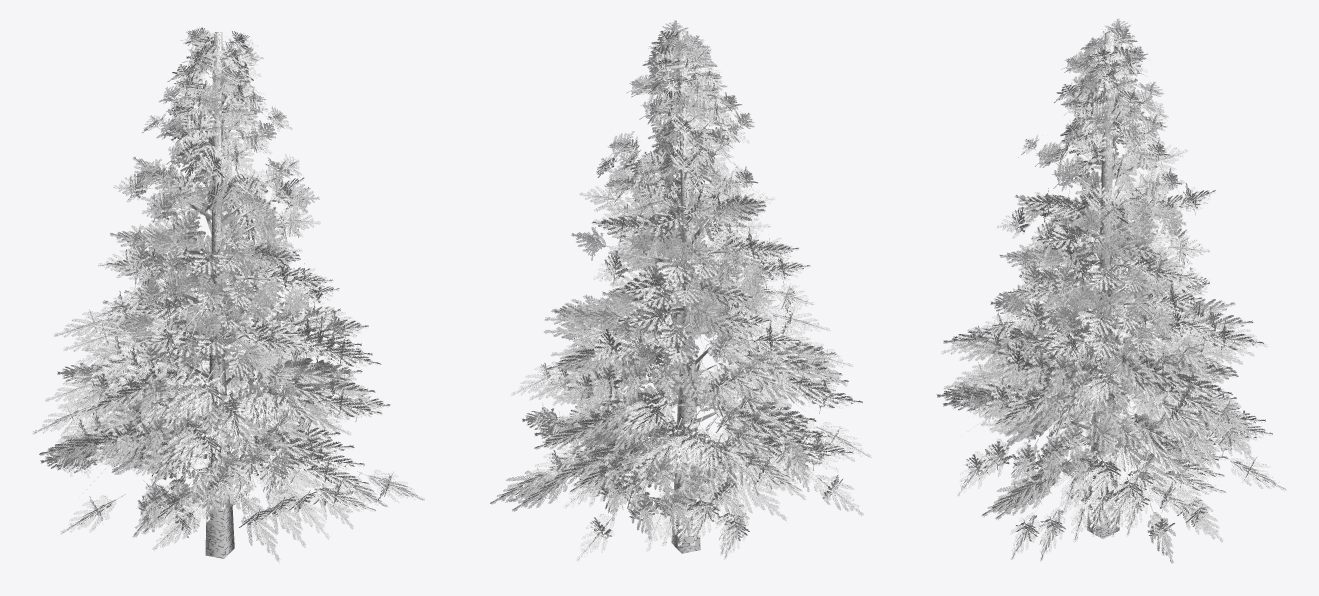
File: Spruce_LOD0_P4292_B1968_L2304_v01.fbx
3 views of the same model, side by side, from view 1: azimuth 30°, elevation 25°; view 2: azimuth 150°, elevation 25°; view 3: azimuth 270°, elevation 25° (orthographic). The views are drawn at different scales.
Parts seen in each view (by area): view 1: leafclumpatlas_spruce_1, sprucebarktextureseamless_0; view 2: leafclumpatlas_spruce_1, sprucebarktextureseamless_0; view 3: leafclumpatlas_spruce_1, sprucebarktextureseamless_0.
Boxes of the visible parts, box(x1,y1,x2,y2) form: leafclumpatlas_spruce_1: box(32, 27, 424, 562); sprucebarktextureseamless_0: box(86, 32, 360, 558); leafclumpatlas_spruce_1: box(490, 20, 871, 561); sprucebarktextureseamless_0: box(573, 31, 823, 553); leafclumpatlas_spruce_1: box(936, 18, 1286, 563); sprucebarktextureseamless_0: box(995, 31, 1225, 538).
Size of the model in its own units: 698 by 983 by 671.
